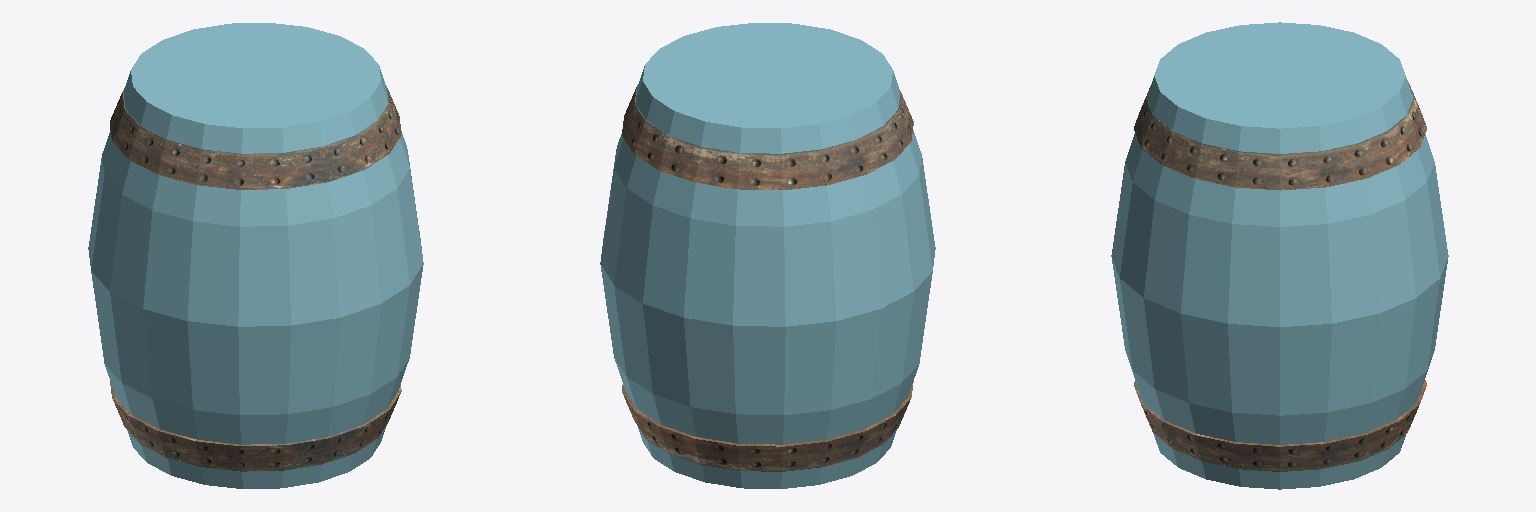
3 views of the same model, side by side, from view 1: azimuth 30°, elevation 25°; view 2: azimuth 150°, elevation 25°; view 3: azimuth 270°, elevation 25° (orthographic).
Parts seen in each view (by area): view 1: PhysicsModel; view 2: PhysicsModel; view 3: PhysicsModel.
Part boxes in pixels (left/top/right/bottom): PhysicsModel: left=88, top=23, right=423, bottom=488; PhysicsModel: left=600, top=23, right=935, bottom=488; PhysicsModel: left=1111, top=22, right=1448, bottom=489.
Size of the model in its own units: 0.839 by 0.9908 by 0.839.
Materials: 3 (1 with a texture image).